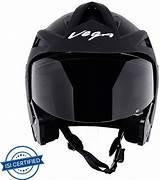Helmet: (26, 2, 157, 170)
